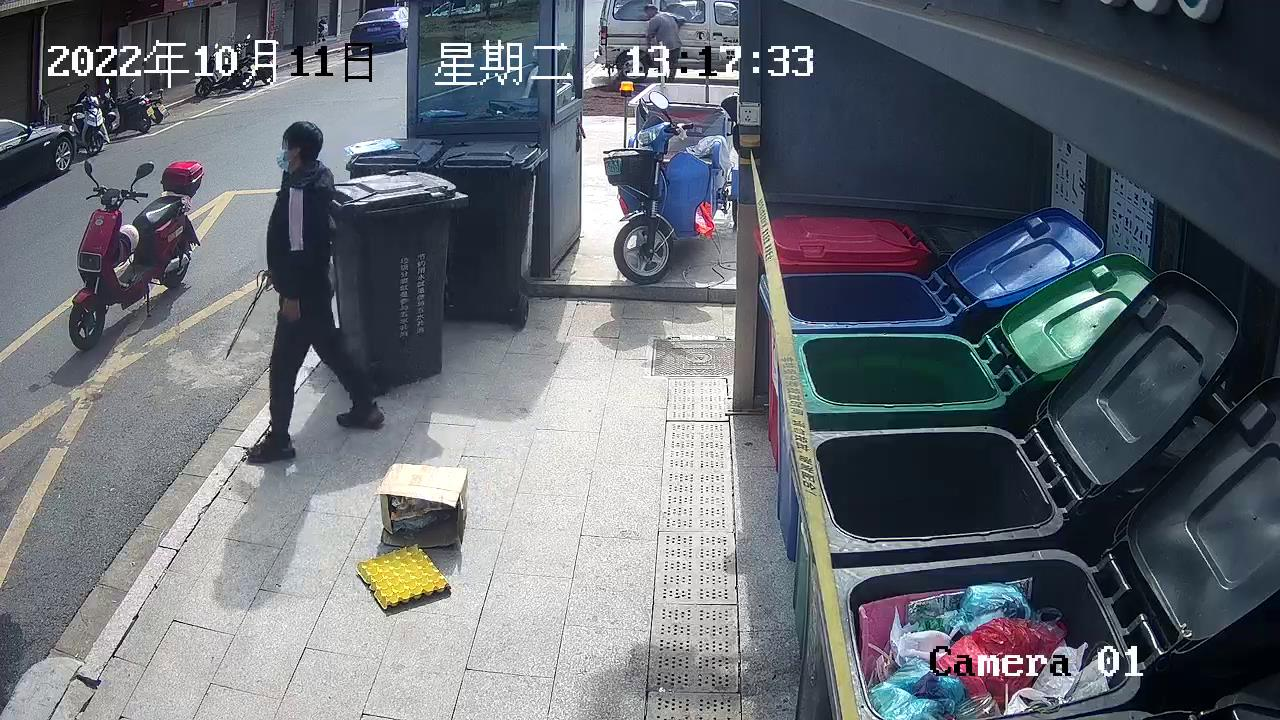person: (243, 119, 386, 466)
zhizhipin: (371, 460, 471, 550), (355, 542, 453, 615)
